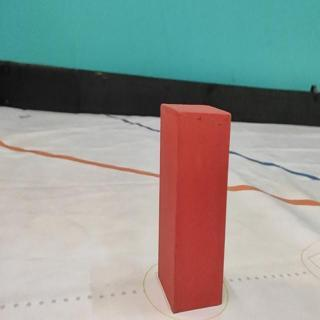redbox: (160, 105, 225, 310)
